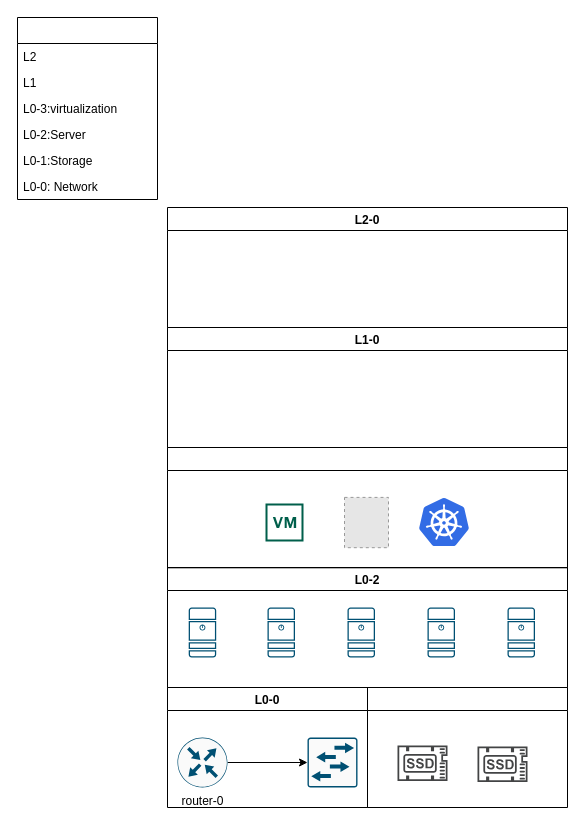
Some shapes in this 585 by 826 pixel diagram are drawn without their labels. Grey dashed boxes stand in for pictures. The shapes that lost their labels are listed below. From the top down, each one's box as (x1, y1, x2, y2) in pixels, then its label:
(16, 16, 158, 200): layout
(166, 446, 568, 568): L0-3
(366, 686, 568, 808): L0-1
